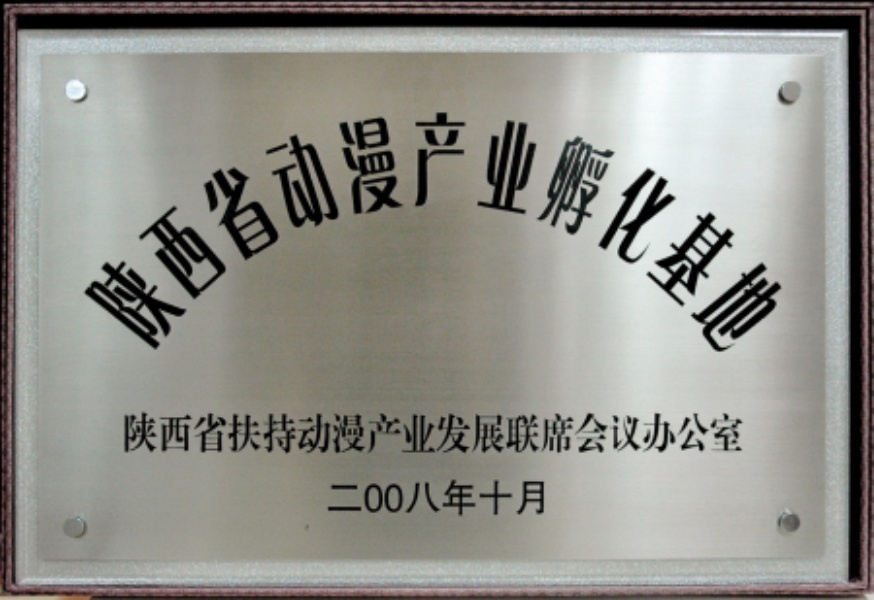text: (97, 113, 112, 354), (113, 113, 128, 354), (129, 113, 144, 354), (145, 113, 160, 354), (161, 113, 176, 354), (177, 113, 192, 354), (193, 113, 208, 354), (209, 113, 224, 354), (225, 113, 240, 354), (241, 113, 256, 354), (257, 113, 272, 354), (273, 113, 288, 354), (289, 113, 304, 354), (305, 113, 320, 354), (321, 113, 336, 354), (337, 113, 352, 354), (353, 113, 368, 354), (369, 113, 384, 354), (385, 113, 400, 354), (401, 113, 416, 354), (417, 113, 432, 354), (433, 113, 448, 354), (449, 113, 464, 354), (465, 113, 480, 354), (481, 113, 496, 354), (497, 113, 512, 354), (513, 113, 528, 354), (529, 113, 544, 354), (545, 113, 560, 354), (561, 113, 576, 354), (577, 113, 592, 354), (593, 113, 608, 354), (609, 113, 624, 354), (625, 113, 640, 354), (641, 113, 656, 354), (657, 113, 672, 354), (673, 113, 688, 354), (689, 113, 704, 354), (705, 113, 720, 354), (721, 113, 736, 354), (737, 113, 752, 354), (753, 113, 768, 354), (769, 113, 783, 354), (84, 113, 96, 354), (129, 410, 144, 455), (145, 410, 160, 455), (161, 410, 176, 455), (177, 410, 192, 455), (193, 410, 208, 455), (209, 410, 224, 455), (225, 410, 240, 455), (241, 410, 256, 455), (257, 410, 272, 455), (273, 410, 288, 455), (289, 410, 304, 455), (305, 410, 320, 455), (321, 410, 336, 455), (337, 410, 352, 455), (353, 410, 368, 455), (369, 410, 384, 455), (385, 410, 400, 455), (401, 410, 416, 455), (417, 410, 432, 455), (433, 410, 448, 455), (449, 410, 464, 455), (465, 410, 480, 455), (481, 410, 496, 455), (497, 410, 512, 455), (513, 410, 528, 455), (529, 410, 544, 455), (545, 410, 560, 455), (561, 410, 576, 455), (577, 410, 592, 455), (593, 410, 608, 455), (609, 410, 624, 455), (625, 410, 640, 455), (641, 410, 656, 455), (657, 410, 672, 455), (673, 410, 688, 455), (689, 410, 704, 455), (705, 410, 720, 455), (721, 410, 736, 455), (337, 482, 352, 519), (353, 482, 368, 519), (369, 482, 384, 519), (385, 482, 400, 519), (401, 482, 416, 519), (417, 482, 432, 519), (433, 482, 448, 519), (449, 482, 464, 519), (465, 482, 480, 519), (481, 482, 496, 519), (497, 482, 512, 519), (513, 482, 528, 519), (529, 482, 544, 519), (737, 410, 746, 455), (327, 482, 336, 519), (121, 410, 128, 455), (545, 482, 548, 519)
